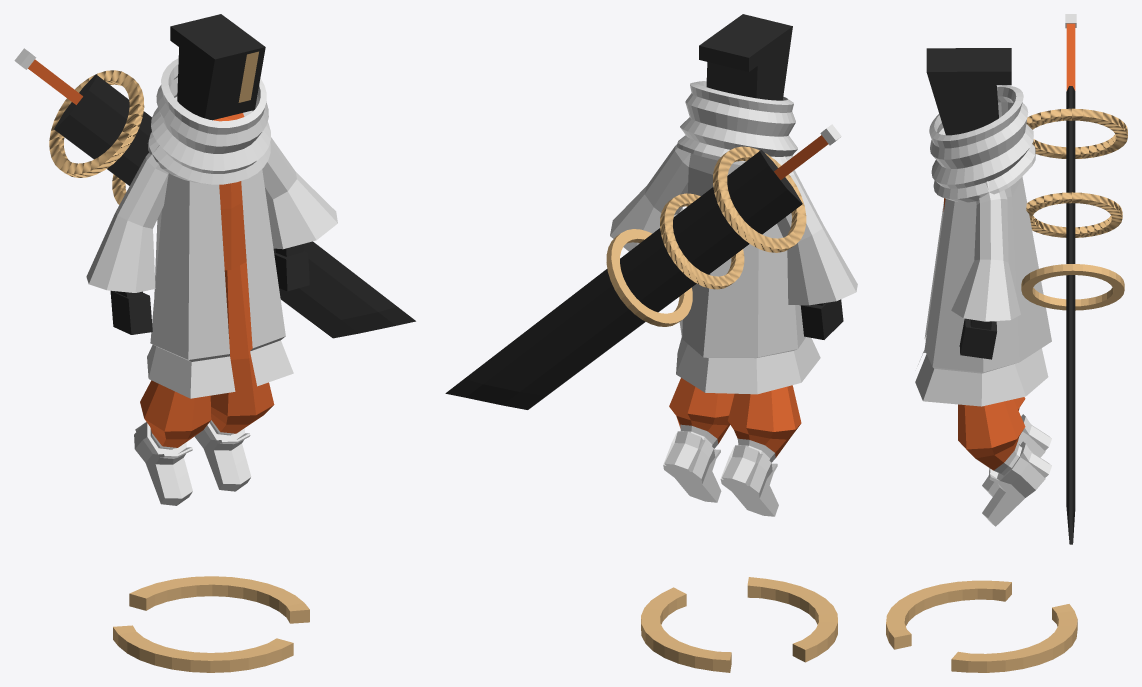
The model's file is ninja1.glb.
3 renders of one model, left to right at view 1: azimuth 30°, elevation 25°; view 2: azimuth 150°, elevation 25°; view 3: azimuth 270°, elevation 25°, orthographic. The views are drawn at different scales.
Parts seen in each view (by area): view 1: Sphere; view 2: Sphere; view 3: Sphere.
Boxes of the visible parts, x1,y1,x2,y2 form: Sphere: (14,14,415,672); Sphere: (445,14,857,672); Sphere: (886,14,1127,672).
Bounding box in the file's own units: 1.93 × 2.78 × 1.06.
